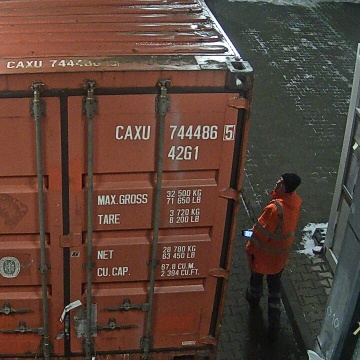serial_id: (115, 125, 233, 139)
